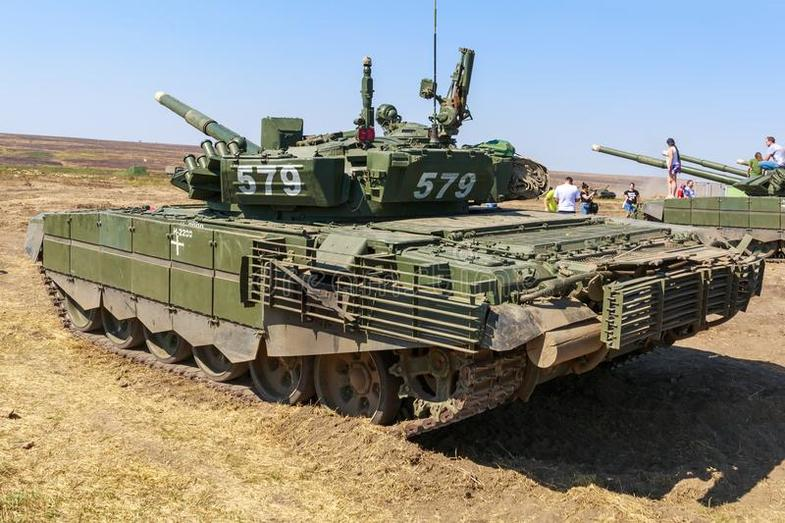t72: (38, 94, 700, 434)
